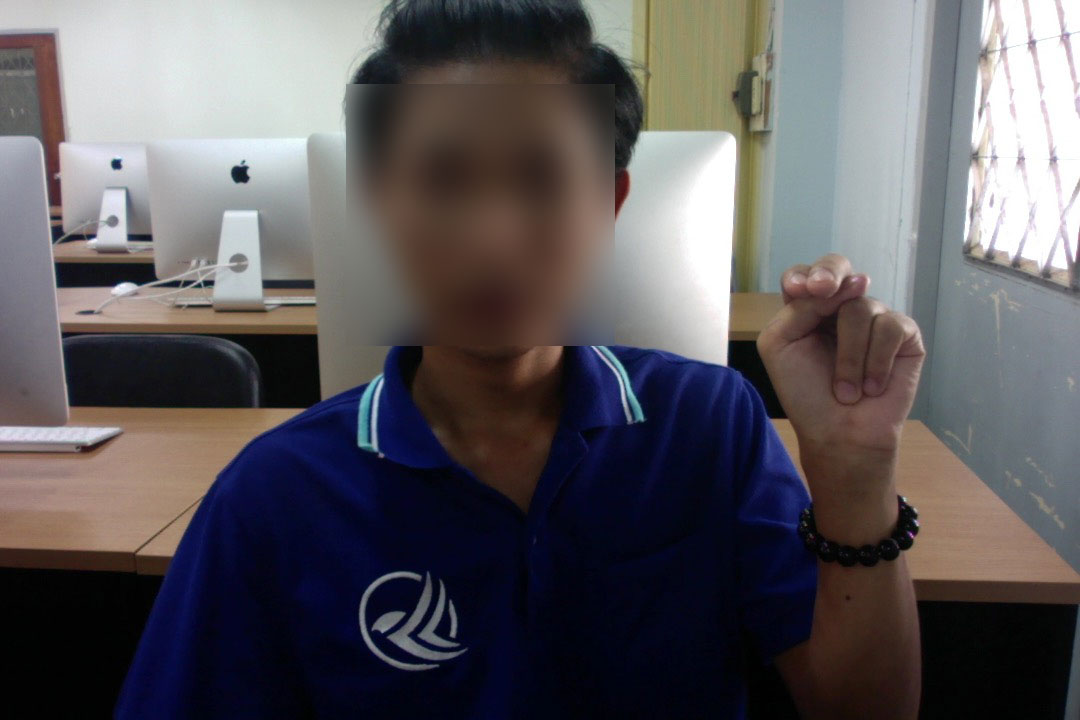nor: (751, 251, 937, 483)
